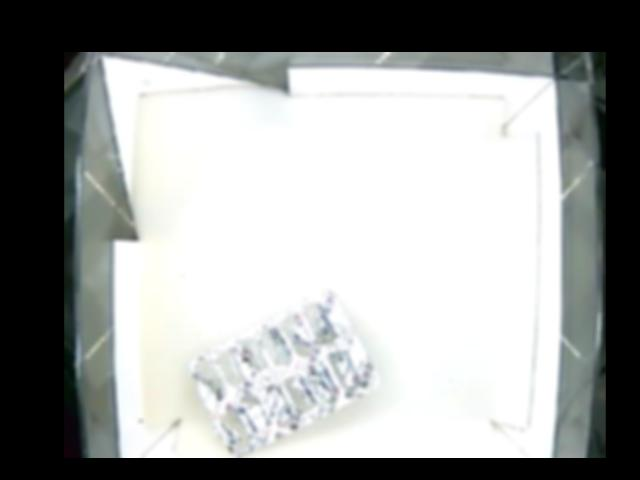Medicine: (192, 291, 384, 456)
